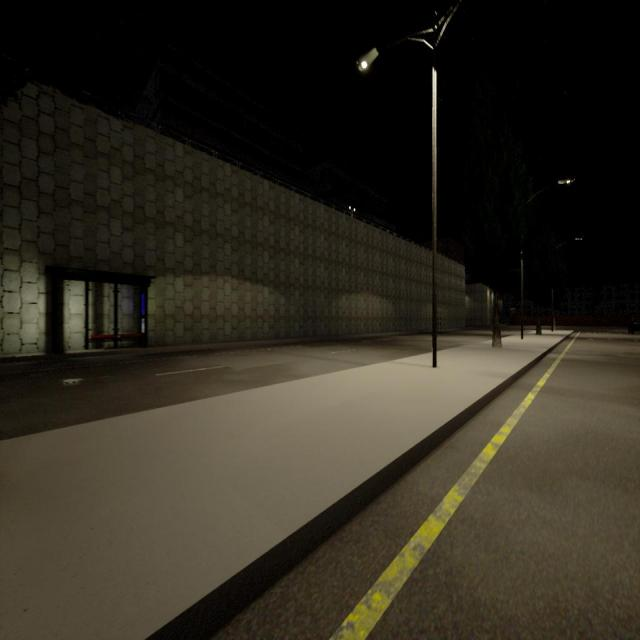Vehicle: (628, 314, 640, 333)
